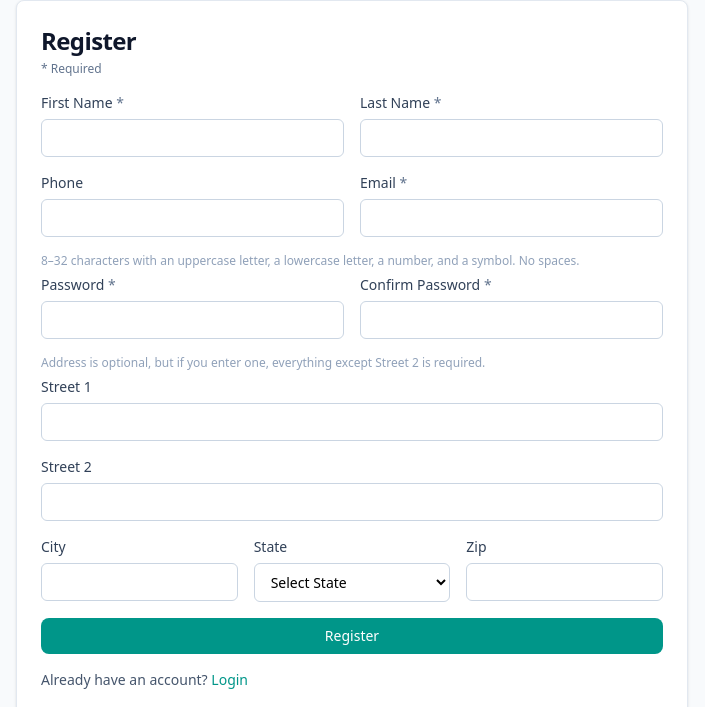
Scenario: Register › shows the server message and stays put when registration fails
Type "Ada" into the field labelled "First Name *" at x=192, y=138, box [41, 119, 344, 157]
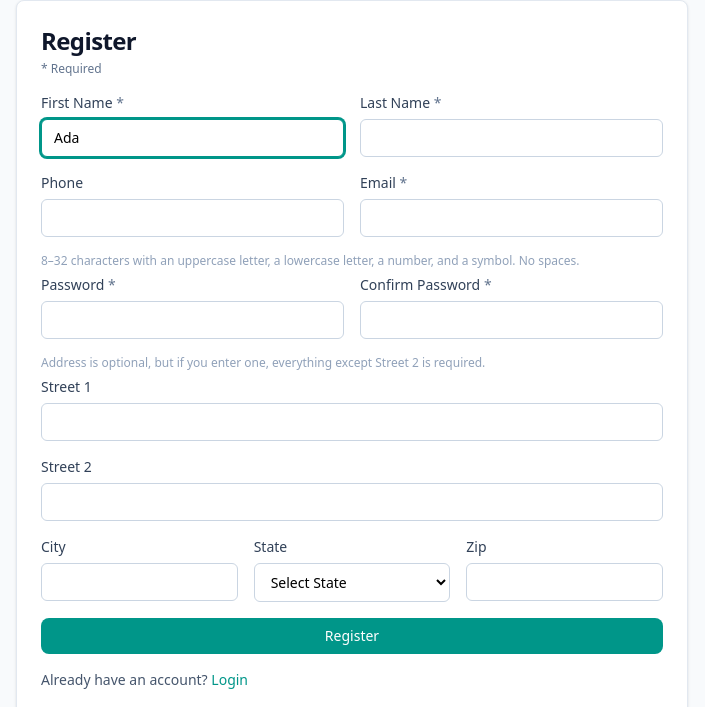
Type "Lovelace" into the field labelled "Last Name *" at x=512, y=138, box [360, 119, 663, 157]
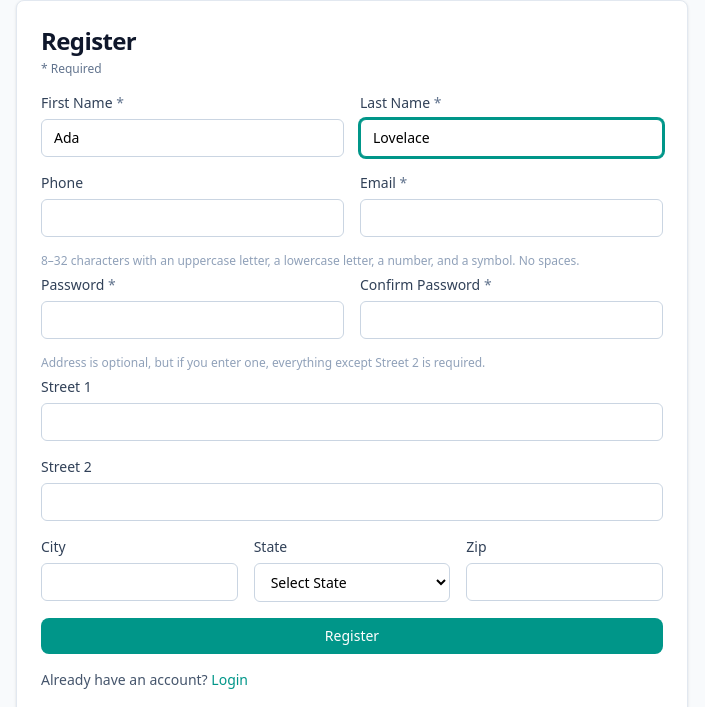
Type "ada@example.com" into the field labelled "Email *" at x=512, y=218, box [360, 199, 663, 237]
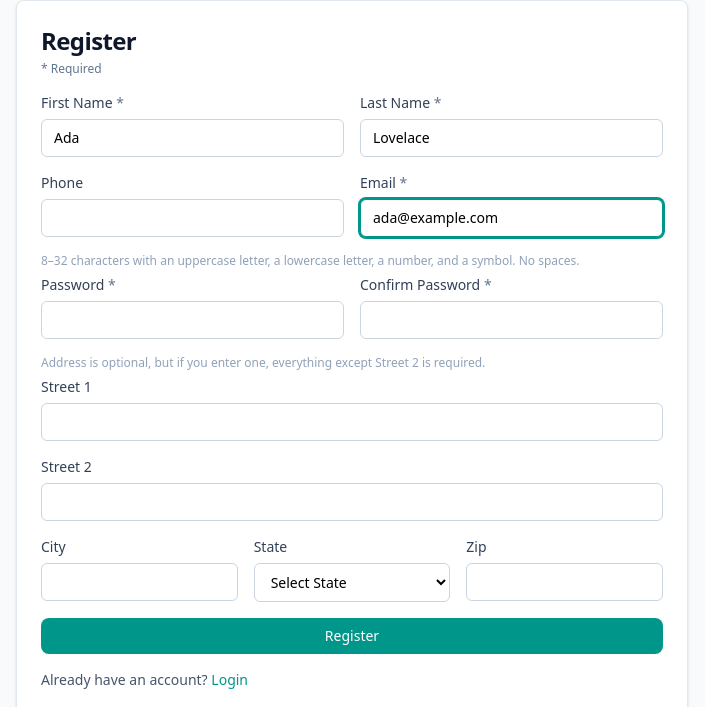
Type "Password1!" into the password field labelled "Password *" at x=192, y=320, box [41, 301, 344, 339]
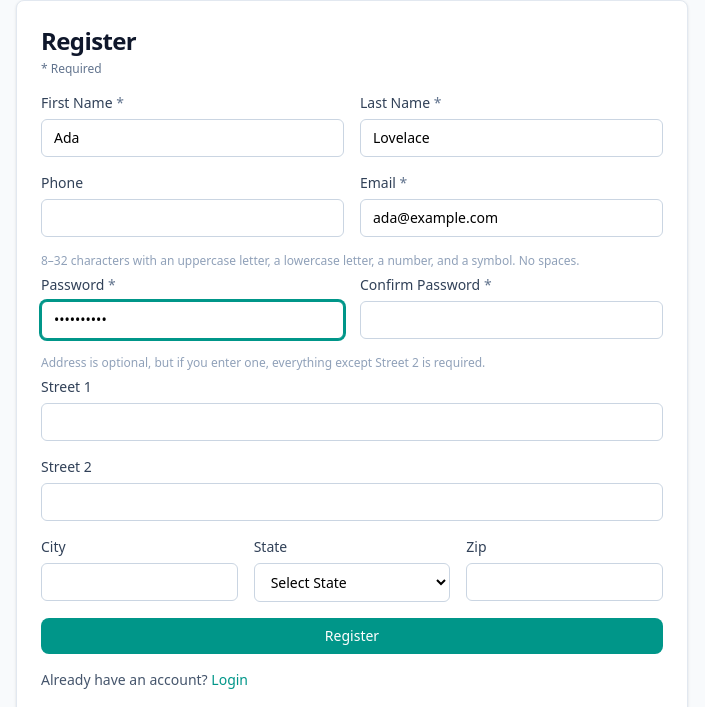
Type "Password1!" into the password field labelled "Confirm Password *" at x=512, y=320, box [360, 301, 663, 339]
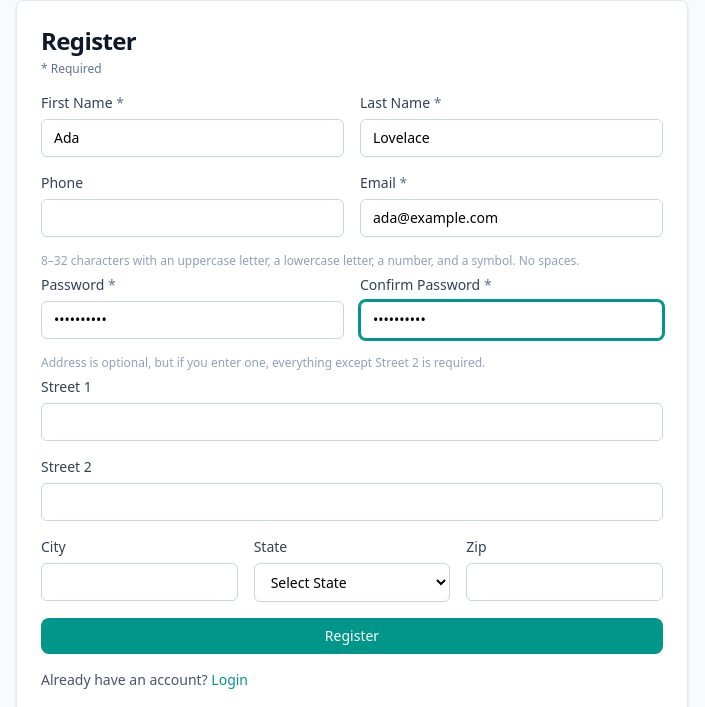
Click the button "Register" at x=352, y=636, box [41, 618, 663, 654]
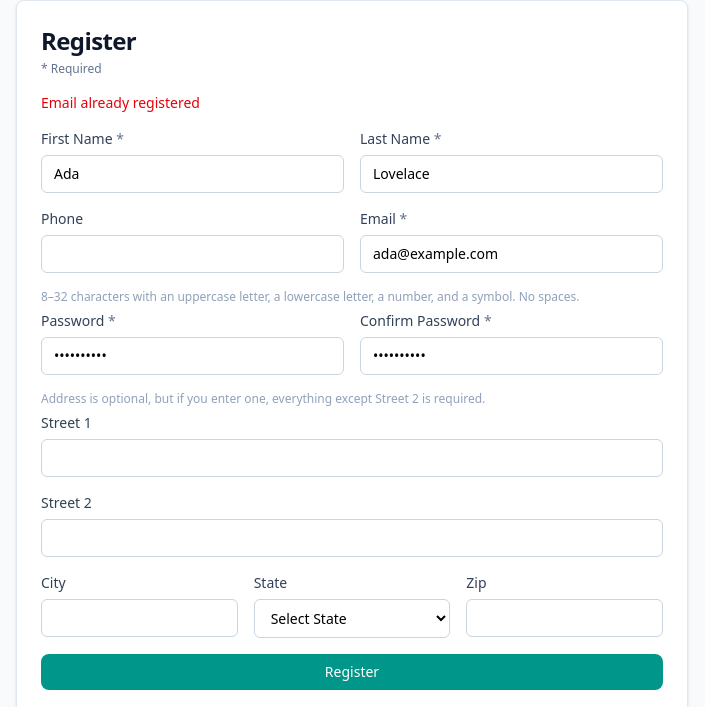
Expected: the message reads "Email already registered", [41, 93, 200, 112]
